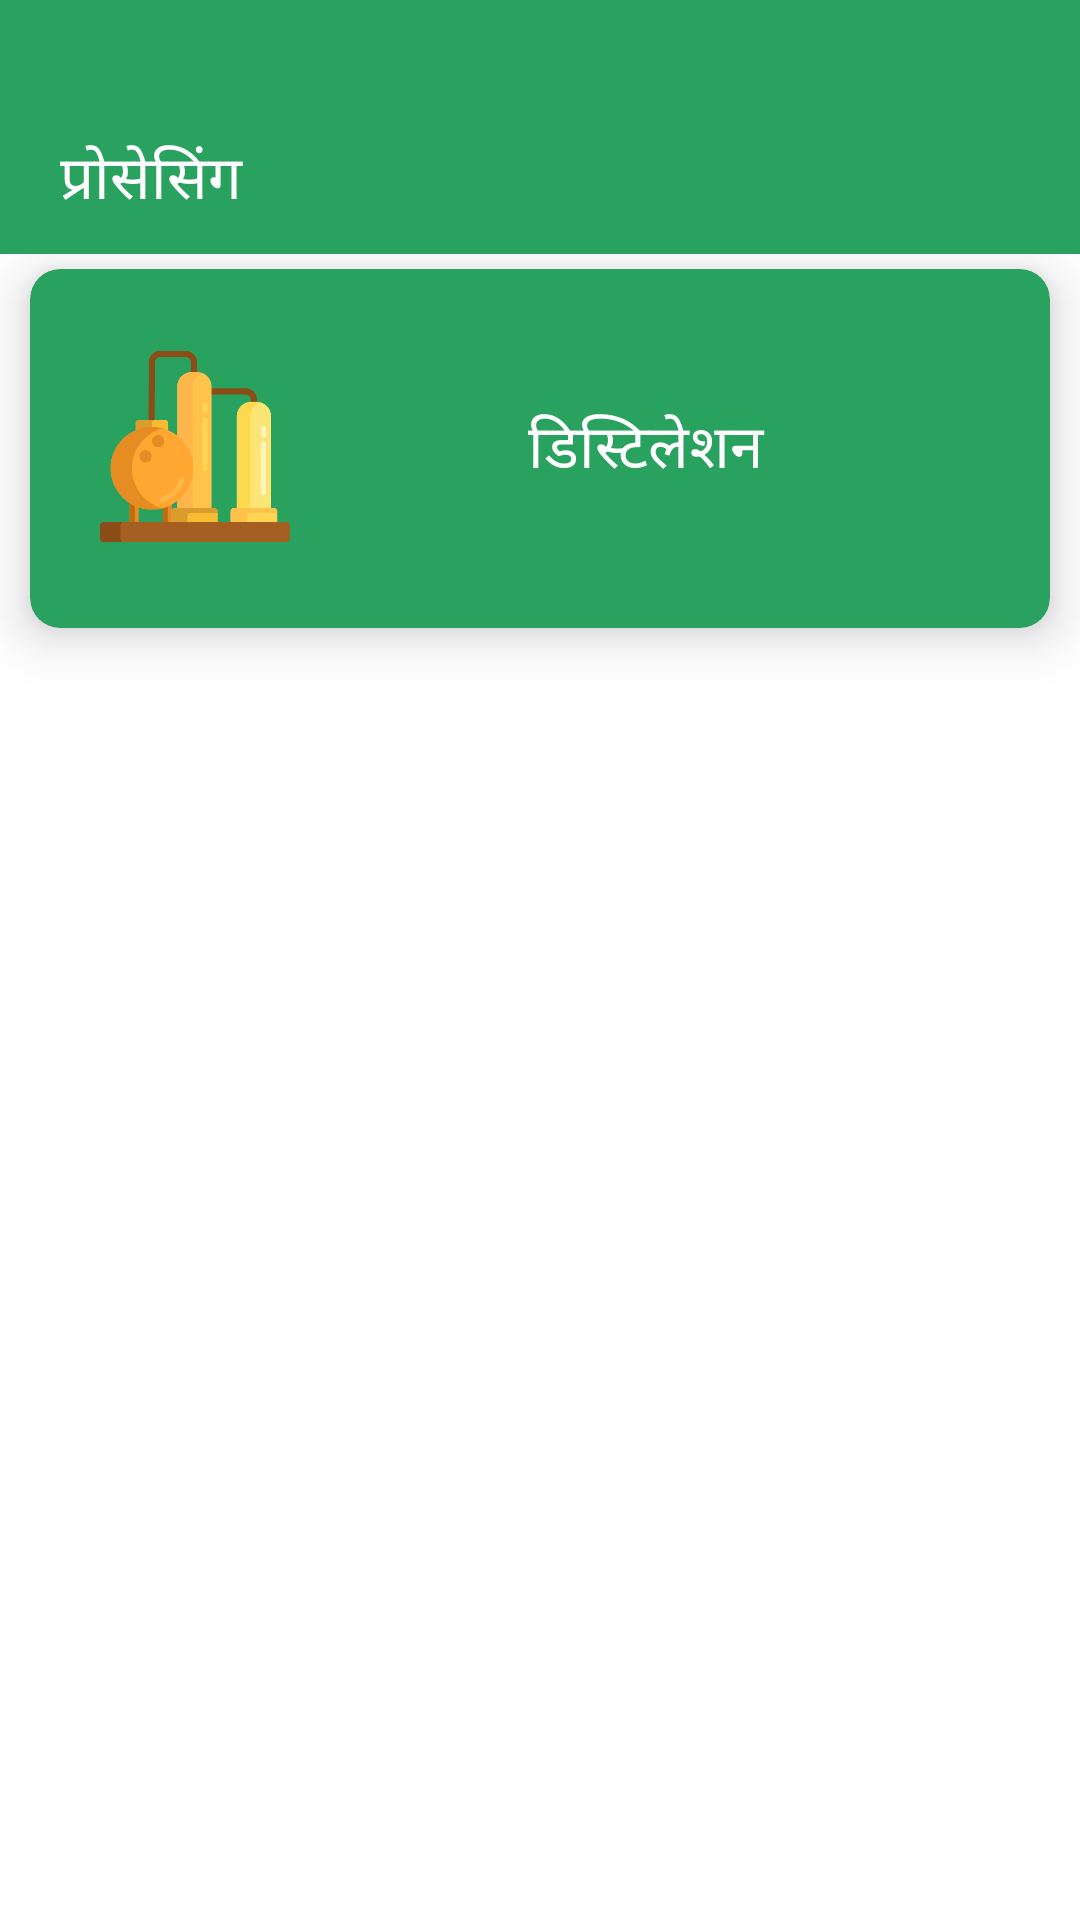

Icon click points for this 1080 × 1920 phone screenshot, format [x,y]:
distillation: [195,446]
